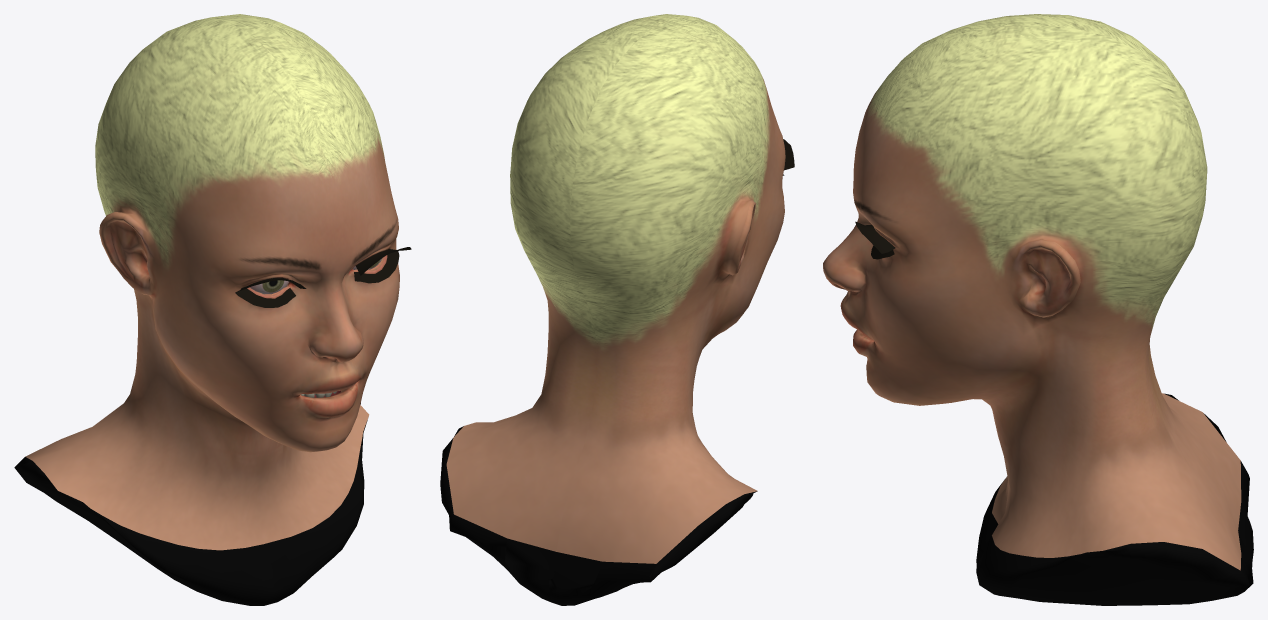
File: Head_ch.obj
3 views of the same model, side by side, from view 1: azimuth 30°, elevation 25°; view 2: azimuth 150°, elevation 25°; view 3: azimuth 270°, elevation 25° (orthographic). The views are drawn at different scales.
Parts seen in each view (by area): view 1: BodyParts; view 2: BodyParts; view 3: BodyParts.
Part boxes in pixels (x1,y1,x2,y2): BodyParts: [14, 14, 411, 605]; BodyParts: [440, 14, 794, 605]; BodyParts: [823, 14, 1253, 605].
Bounding box in the file's own units: 21.19 × 35.94 × 24.44.
Materials: 2 (2 with a texture image).
